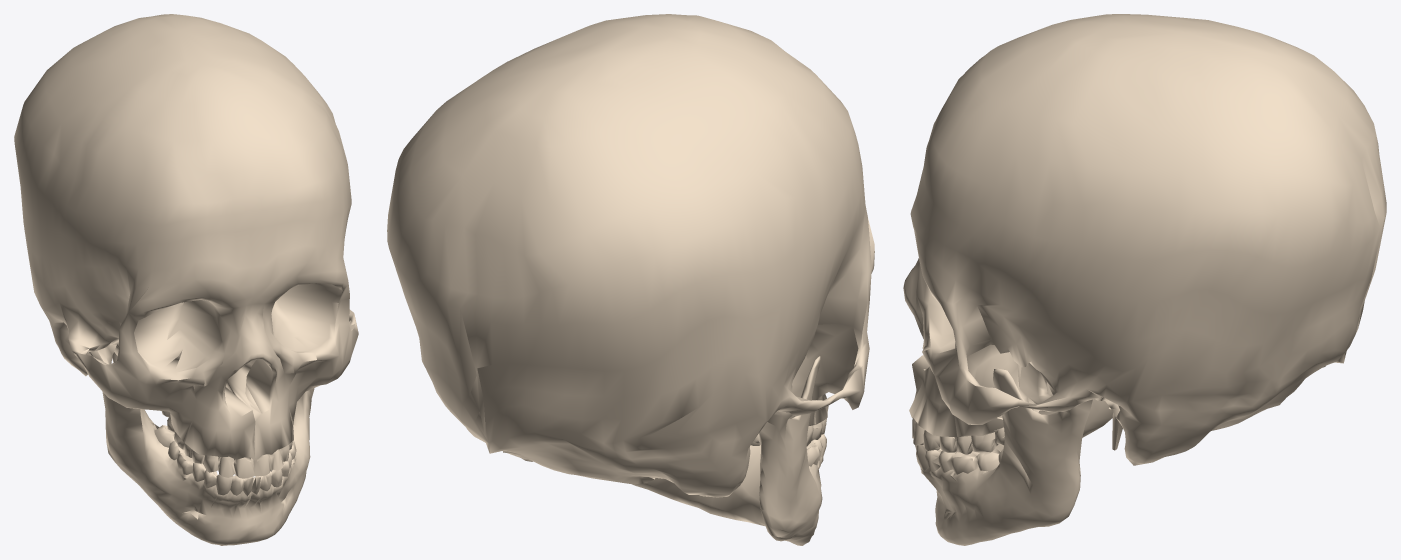
File: skull.fbx
The picture shows the model from 3 angles, left to right: view 1: azimuth 30°, elevation 25°; view 2: azimuth 150°, elevation 25°; view 3: azimuth 270°, elevation 25°; orthographic projection. The views are drawn at different scales.
Visible parts, largest first — view 1: node_id10, node_id6, node_id8, node_id12; view 2: node_id10, node_id6; view 3: node_id10, node_id6, node_id8, node_id12.
Part boxes in pixels (box(x1,y1,x2,y2)): node_id10: box(14, 14, 358, 461); node_id6: box(89, 344, 314, 545); node_id8: box(154, 425, 296, 495); node_id12: box(161, 411, 292, 478); node_id10: box(387, 14, 874, 497); node_id6: box(631, 356, 823, 545); node_id10: box(903, 14, 1386, 465); node_id6: box(920, 368, 1112, 545); node_id8: box(915, 445, 1003, 474); node_id12: box(912, 418, 1004, 454).
Size of the model in its own units: 0.3432 by 0.4989 by 0.424.
